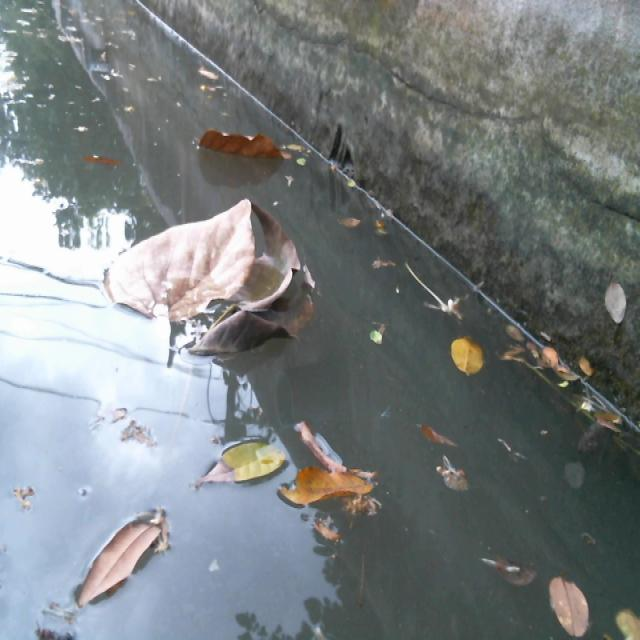Big-leaf: (94, 211, 313, 370), (284, 423, 387, 537), (203, 132, 294, 187)
Small-leaf: (64, 495, 185, 628), (185, 438, 293, 494), (542, 567, 594, 640), (445, 324, 494, 385), (425, 456, 472, 508), (420, 407, 469, 452), (81, 144, 130, 181), (194, 63, 232, 98), (335, 209, 375, 240), (363, 310, 393, 351), (580, 355, 601, 394), (540, 336, 563, 366), (618, 614, 640, 640), (294, 148, 315, 173)
